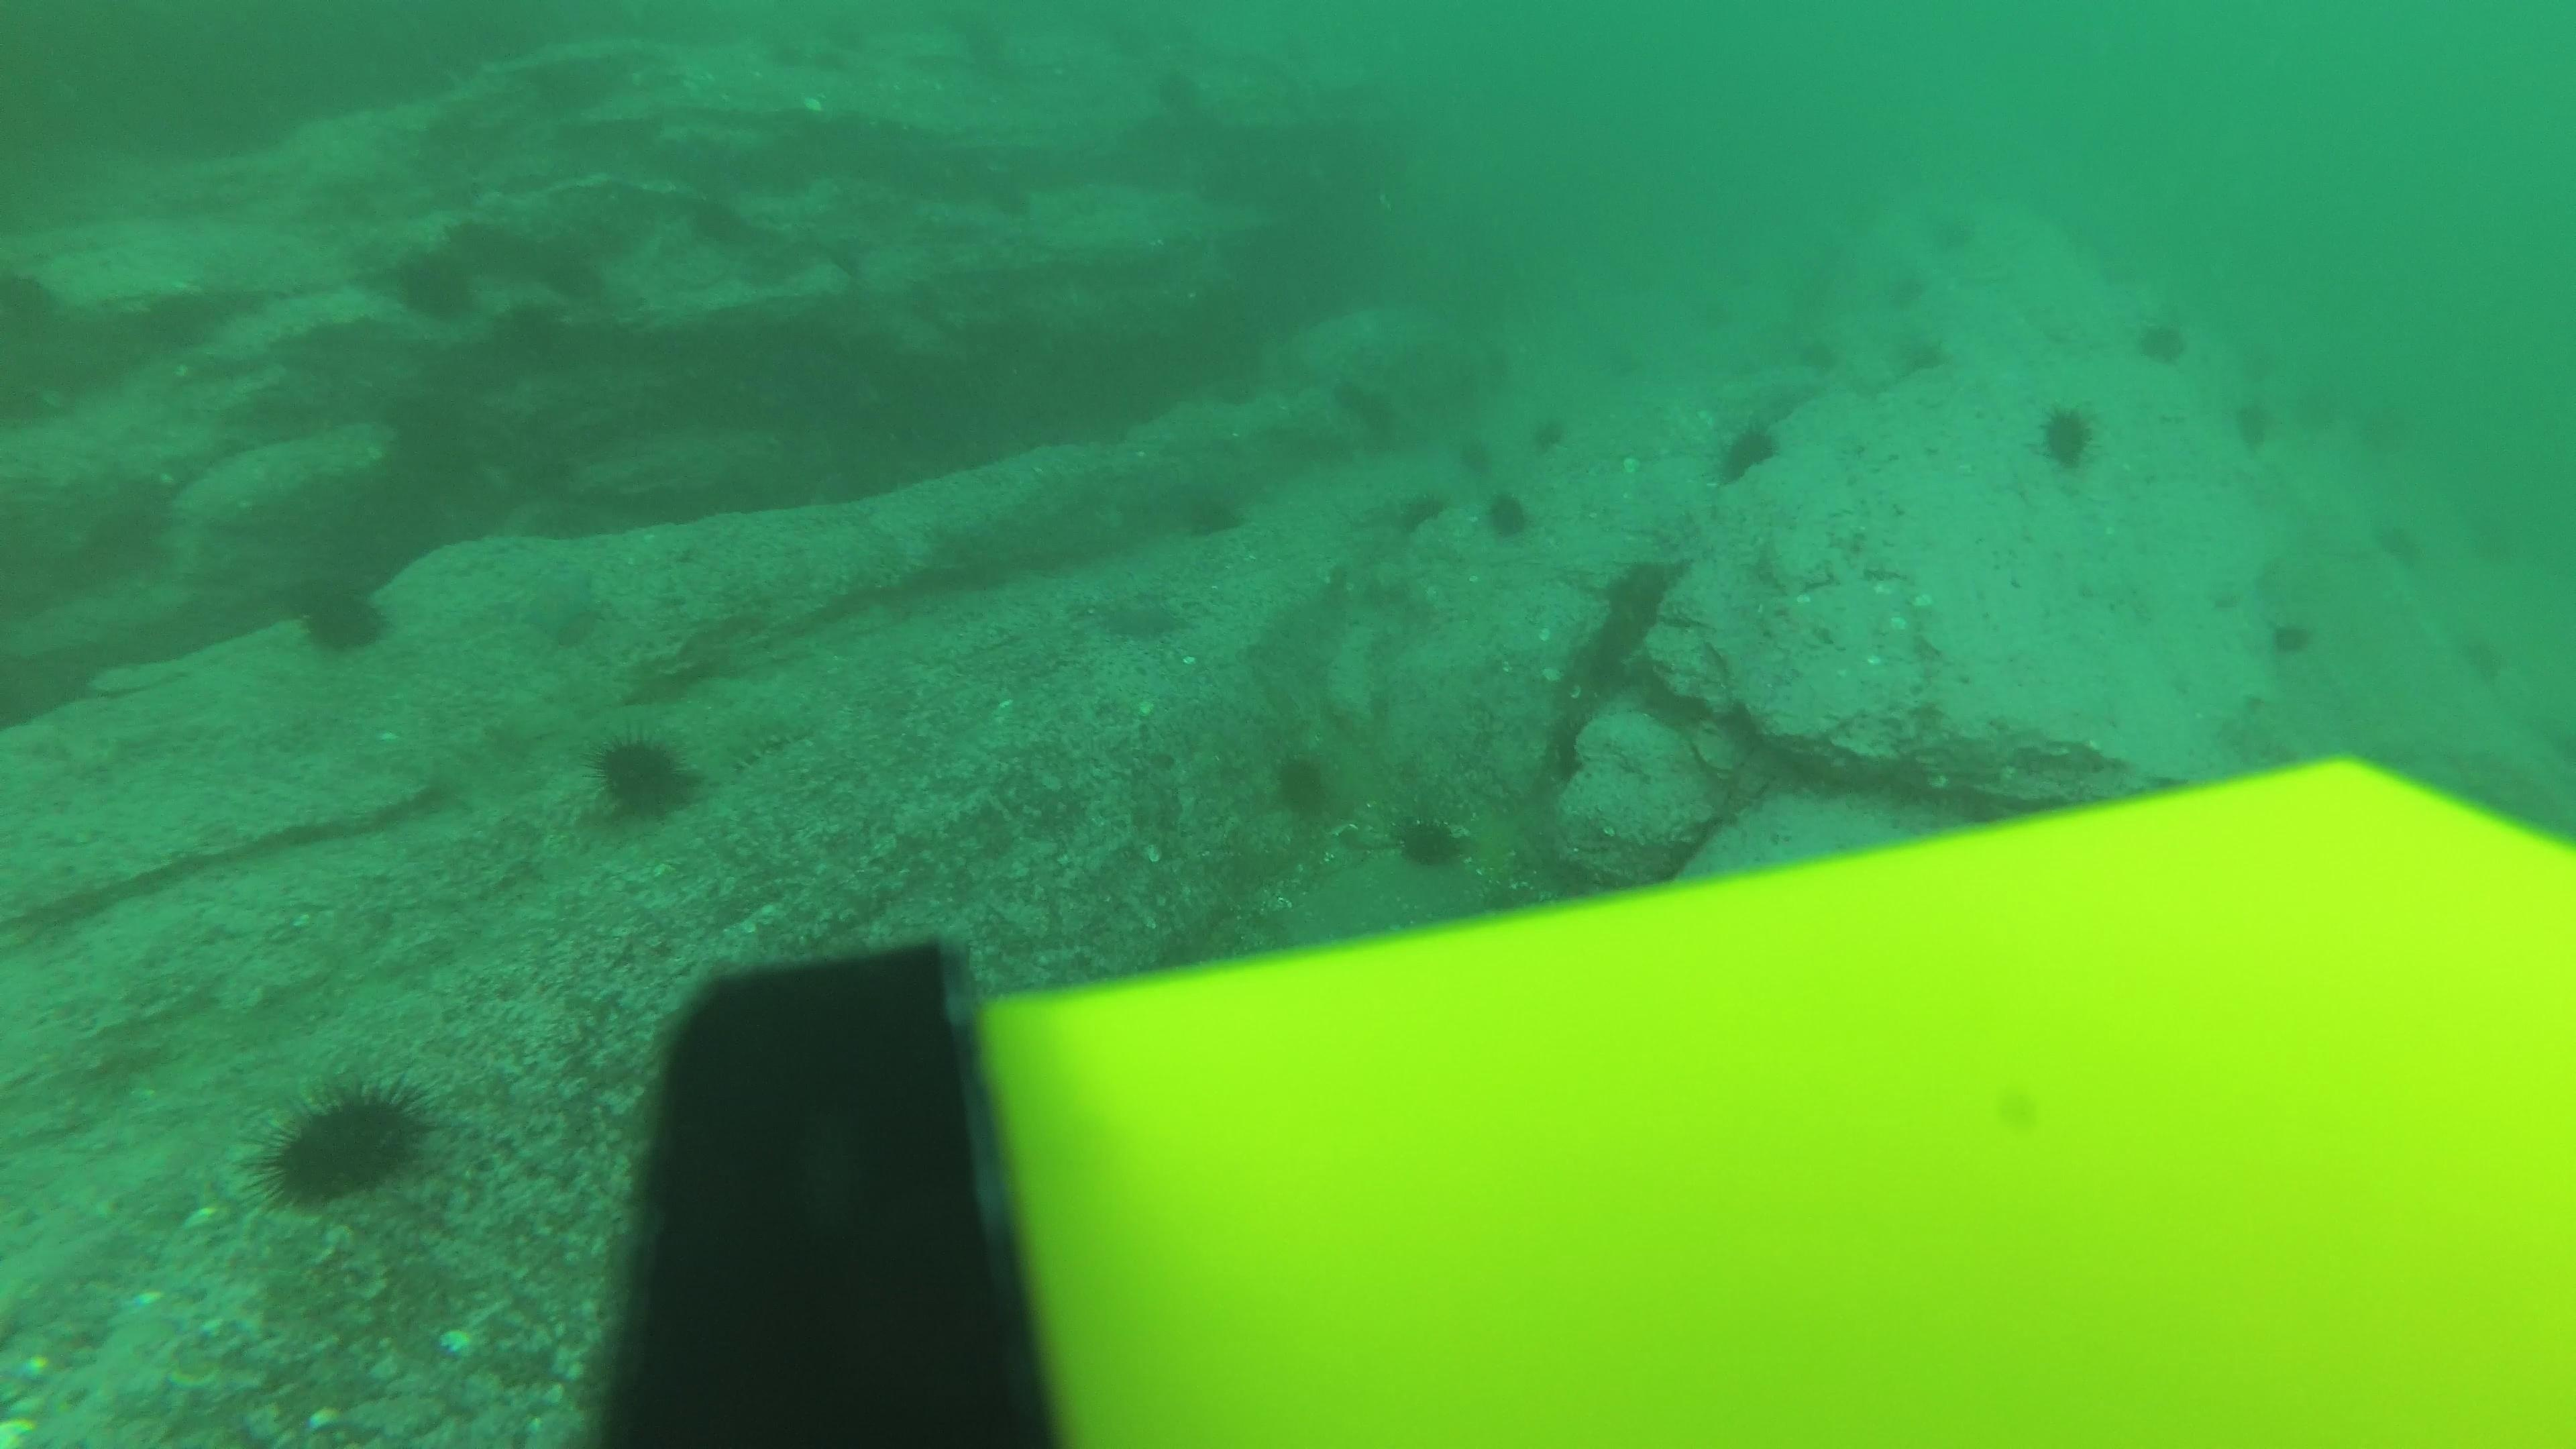echinus: (251, 1074, 433, 1214), (580, 725, 704, 828), (287, 568, 395, 660), (384, 237, 487, 327), (1263, 745, 1346, 824), (1387, 803, 1474, 876), (1707, 414, 1785, 487), (2029, 400, 2102, 474), (1175, 478, 1253, 543), (531, 253, 603, 308), (672, 191, 745, 246), (2220, 396, 2282, 456), (2132, 310, 2192, 370), (1477, 485, 1536, 545), (2263, 612, 2318, 663), (1936, 207, 1990, 255), (1897, 327, 1951, 375), (1886, 267, 1941, 313), (2367, 410, 2419, 458), (2235, 341, 2284, 389), (2288, 387, 2337, 435), (2473, 518, 2523, 566), (2463, 639, 2512, 686), (2374, 525, 2424, 571), (1798, 334, 1845, 377), (1529, 410, 1576, 453), (810, 46, 851, 81), (1157, 73, 1198, 108), (987, 180, 1028, 216), (966, 30, 1007, 65), (1458, 439, 1497, 474), (1366, 395, 1405, 430), (771, 39, 810, 74), (1272, 32, 1311, 67), (1164, 16, 1205, 50), (824, 21, 863, 55), (1111, 23, 1150, 57), (1332, 380, 1369, 409)
starfish: (506, 566, 614, 653), (1083, 586, 1192, 646)
